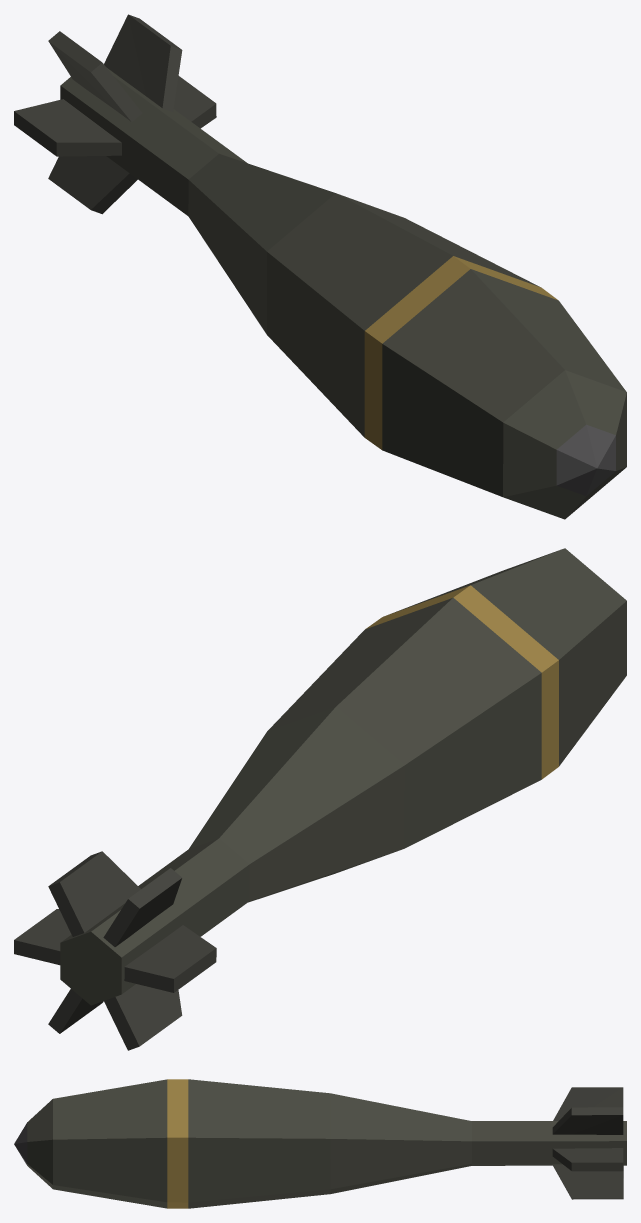
The model's file is SM_Prop_Mortar_Shell_01.glb.
3 views of the same model, one above another, from view 1: azimuth 30°, elevation 25°; view 2: azimuth 150°, elevation 25°; view 3: azimuth 270°, elevation 25° (orthographic). The views are drawn at different scales.
Parts seen in each view (by area): view 1: SM_Prop_Mortar_Shell_01; view 2: SM_Prop_Mortar_Shell_01; view 3: SM_Prop_Mortar_Shell_01.
Boxes of the visible parts, <box> form: SM_Prop_Mortar_Shell_01: <box>14,14,626,519</box>; SM_Prop_Mortar_Shell_01: <box>14,548,626,1050</box>; SM_Prop_Mortar_Shell_01: <box>14,1079,626,1208</box>.
Bounding box in the file's own units: 0.0959 × 0.1107 × 0.4749.
1 material, 1 textured.
